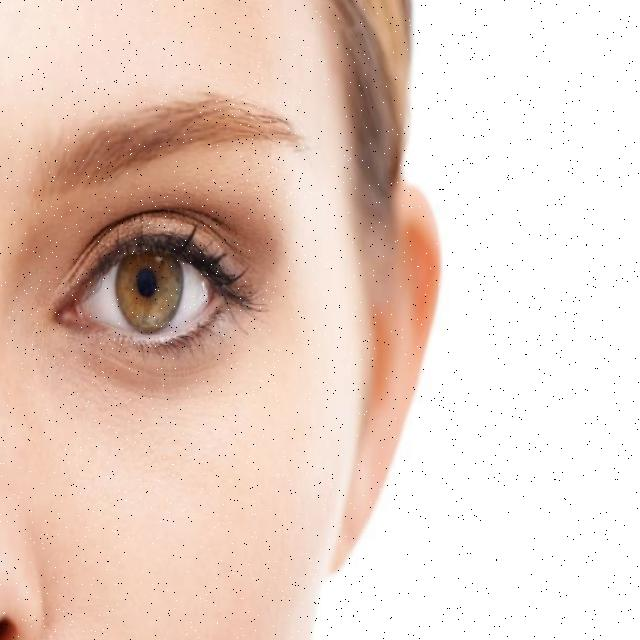puffy_eyes: (90, 344, 264, 389)
